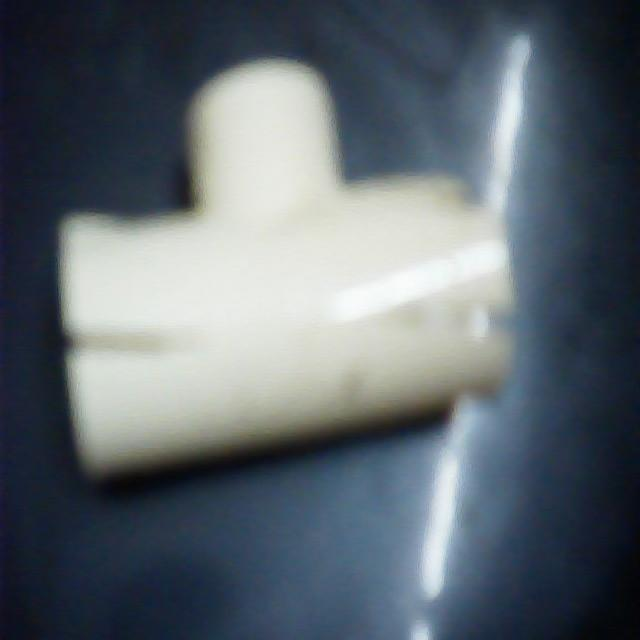Defective: (386, 227, 528, 366), (92, 296, 201, 378)
T Joint: (59, 61, 513, 487)
